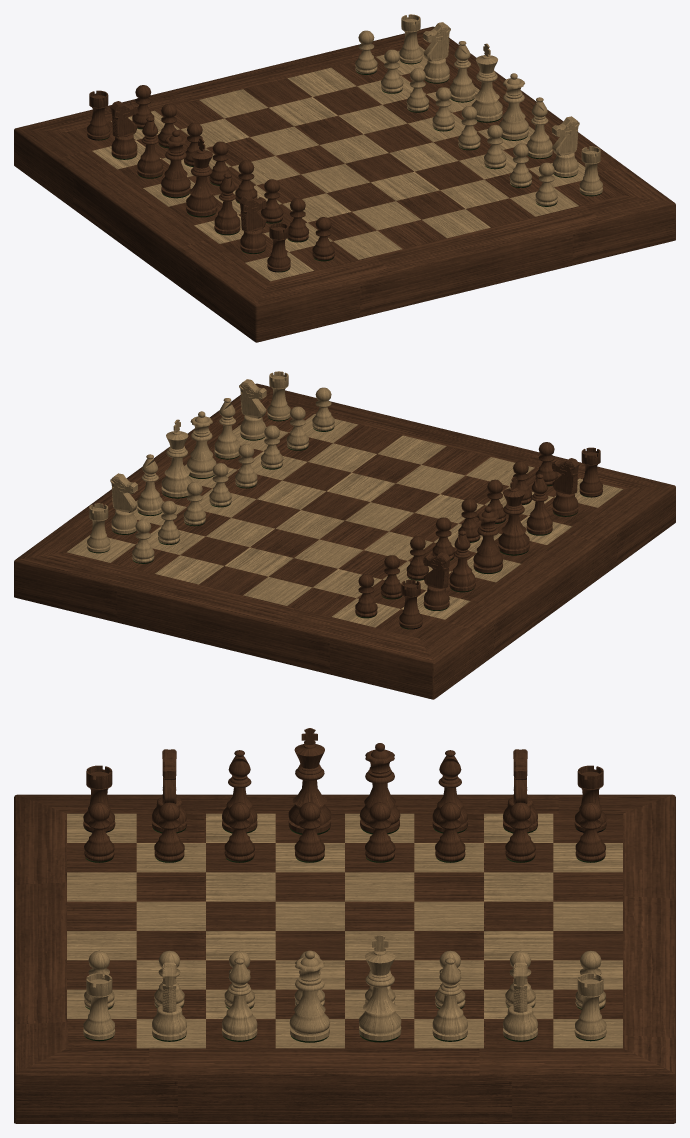
The picture shows the model from 3 angles, top to bottom: view 1: azimuth 30°, elevation 25°; view 2: azimuth 150°, elevation 25°; view 3: azimuth 270°, elevation 25°; orthographic projection. The views are drawn at different scales.
Parts seen in each view (by area): view 1: Chess_Board, King_White.001, King_White, Queen_White.001, Knight_White.001, Knight_White, Knight_White.002, Knight_White.003, Queen_White, Bishop_White.002, Bishop_White.003, Bishop_White.001 (+20 smaller); view 2: Chess_Board, King_White.001, King_White, Knight_White, Knight_White.001, Queen_White.001, Knight_White.003, Knight_White.002, Queen_White, Bishop_White.003, Bishop_White.002, Bishop_White (+21 smaller); view 3: Chess_Board, King_White, Queen_White, King_White.001, Queen_White.001, Bishop_White, Bishop_White.001, Knight_White.001, Knight_White, Rook_White, Rook_White.001, Bishop_White.002 (+17 smaller).
Part boxes in pixels (x1,y1,x2,y2): Chess_Board: (14,26,675,342); King_White.001: (186,138,217,217); King_White: (471,43,502,122); Queen_White.001: (161,130,190,198); Knight_White.001: (423,22,450,83); Knight_White: (552,116,579,177); Knight_White.002: (110,101,137,159); Knight_White.003: (239,195,266,253); Queen_White: (499,73,528,140); Bishop_White.002: (214,173,240,235); Bishop_White.003: (137,117,163,178); Bishop_White.001: (449,41,475,102); Chess_Board: (14,383,675,699); King_White.001: (498,476,529,555); King_White: (161,419,192,498); Knight_White: (239,379,266,440); Knight_White.001: (110,473,137,534); Queen_White.001: (473,506,502,573); Knight_White.003: (552,458,579,516); Knight_White.002: (423,552,450,610); Queen_White: (187,411,216,478); Bishop_White.003: (449,530,475,592); Bishop_White.002: (526,474,552,535); Bishop_White: (214,398,240,459); Chess_Board: (14,794,675,1123); King_White: (359,935,401,1042); Queen_White: (289,950,329,1042); King_White.001: (288,728,330,834); Queen_White.001: (359,743,400,834); Bishop_White: (222,957,257,1041); Bishop_White.001: (432,957,467,1041); Knight_White.001: (503,962,537,1041); Knight_White: (152,962,186,1041); Rook_White: (83,973,115,1041); Rook_White.001: (574,973,606,1041); Bishop_White.002: (222,750,257,833).
Bounding box in the file's own units: 56.58 × 14.31 × 56.58.
Materials: 3 (3 with a texture image).
